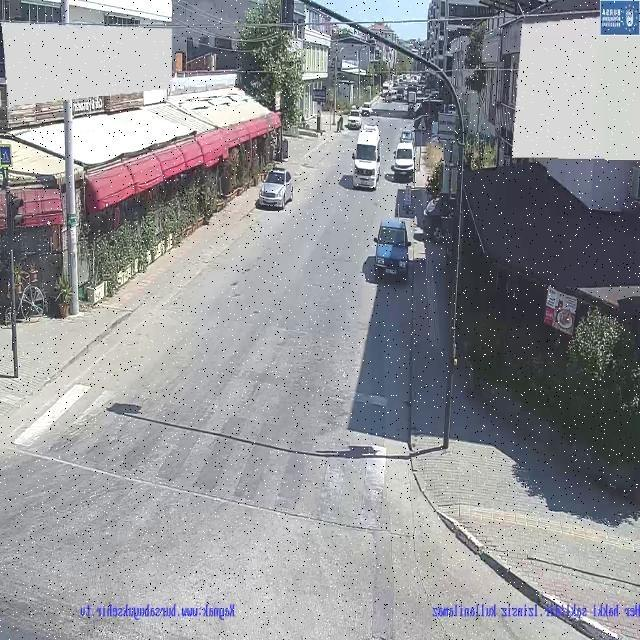Car: (372, 218, 412, 278), (259, 168, 294, 209), (391, 140, 415, 178), (347, 108, 362, 130)
Van: (352, 124, 382, 188)
